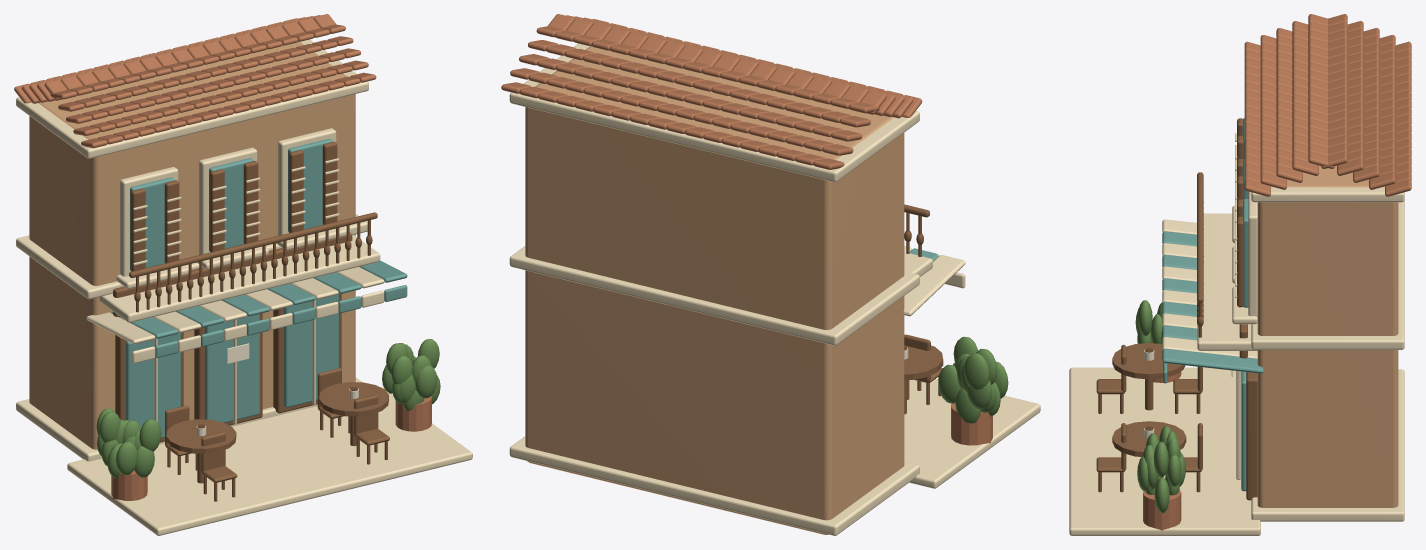
File: postcard-cafe.glb
3 renders of one model, left to right at view 1: azimuth 30°, elevation 25°; view 2: azimuth 150°, elevation 25°; view 3: azimuth 270°, elevation 25°, orthographic. The views are drawn at different scales.
Visible parts, largest first — view 1: Facade, Cafe terrace, Balcony deck, Cornice.002, Shop glass.001, Shop glass.002, Shop glass, Cornice.001, Window glass.001, Window glass.002, Window glass, Balcony rail (+38 smaller); view 2: Facade, Cafe terrace, Cornice.001, Cornice, Cornice.002, Canopy stripe, Plant pot, Table top, Foliage.009, Foliage.016; view 3: Facade, Cafe terrace, Balcony deck, Cornice, Cornice.001, Cornice.002, Table top, Shop doorway.002, Canopy stripe.011, Table top.001, Window surround.002, Plant pot.001 (+22 smaller).
Boxes of the visible parts, x1,y1,x2,y2 form: Facade: (29, 41, 355, 449); Cafe terrace: (67, 387, 472, 535); Balcony deck: (99, 235, 380, 322); Cornice.002: (16, 39, 368, 158); Shop glass.001: (205, 314, 259, 422); Shop glass.002: (284, 293, 338, 407); Shop glass: (126, 332, 180, 438); Cornice.001: (16, 214, 367, 299); Window glass.001: (209, 158, 253, 251); Window glass.002: (288, 138, 332, 231); Window glass: (130, 177, 174, 270); Balcony rail: (129, 212, 377, 277); Facade: (525, 46, 904, 534); Cafe terrace: (904, 379, 1040, 488); Cornice.001: (509, 246, 919, 345); Cornice: (509, 436, 919, 535); Cornice.002: (509, 43, 919, 182); Canopy stripe: (903, 255, 965, 316); Plant pot: (951, 403, 992, 445); Table top: (904, 345, 943, 379); Foliage.009: (964, 353, 989, 389); Foliage.016: (938, 364, 960, 403); Facade: (1257, 165, 1398, 507); Cafe terrace: (1069, 367, 1260, 535); Balcony deck: (1197, 213, 1257, 350); Cornice: (1251, 369, 1404, 521); Cornice.001: (1251, 200, 1404, 349); Cornice.002: (1251, 187, 1404, 202); Table top: (1112, 343, 1185, 379); Shop doorway.002: (1246, 372, 1257, 500); Canopy stripe.011: (1162, 348, 1263, 373); Table top.001: (1112, 421, 1186, 456); Window surround.002: (1248, 191, 1257, 316); Plant pot.001: (1143, 489, 1181, 530).
Size of the model in its own units: 6.37 by 6.42 by 5.36.
